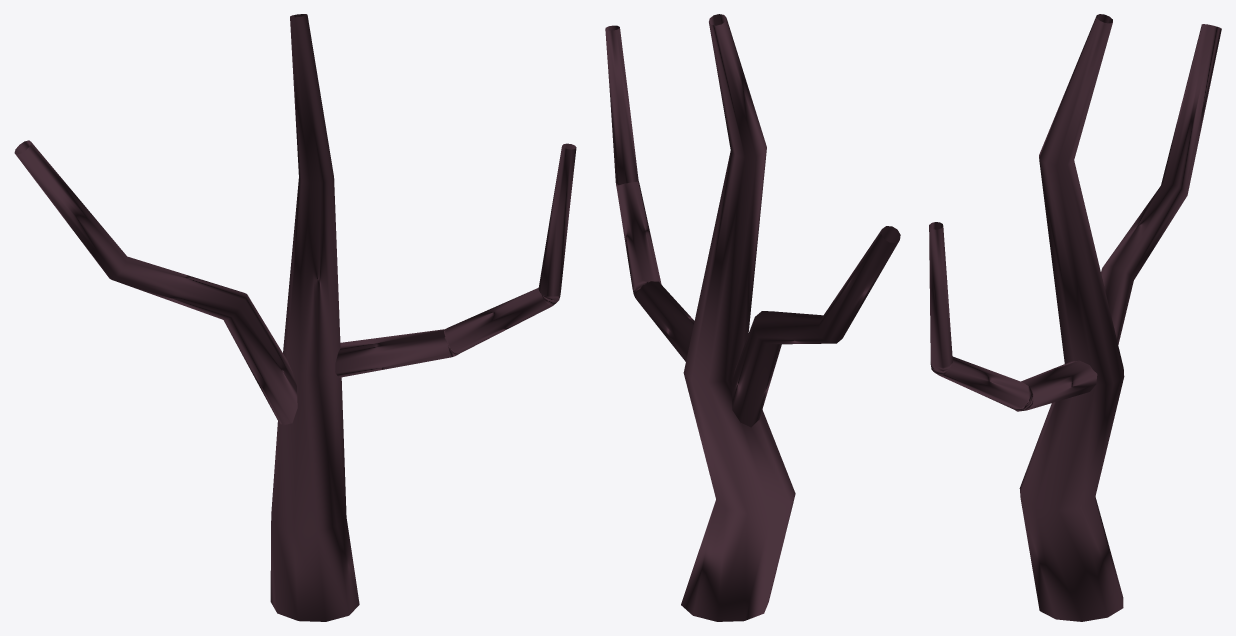
Rendered from tree_bare_2.glb.
3 views of the same model, side by side, from view 1: azimuth 30°, elevation 25°; view 2: azimuth 150°, elevation 25°; view 3: azimuth 270°, elevation 25° (orthographic). The views are drawn at different scales.
Visible parts, largest first — view 1: tree_bare_2; view 2: tree_bare_2; view 3: tree_bare_2.
Part boxes in pixels (box(x1,y1,x2,y2)): tree_bare_2: box(14, 14, 576, 621); tree_bare_2: box(605, 14, 900, 621); tree_bare_2: box(929, 14, 1221, 621).
Size of the model in its own units: 4.17 by 5.5 by 2.49.
Materials: 1 (1 with a texture image).
